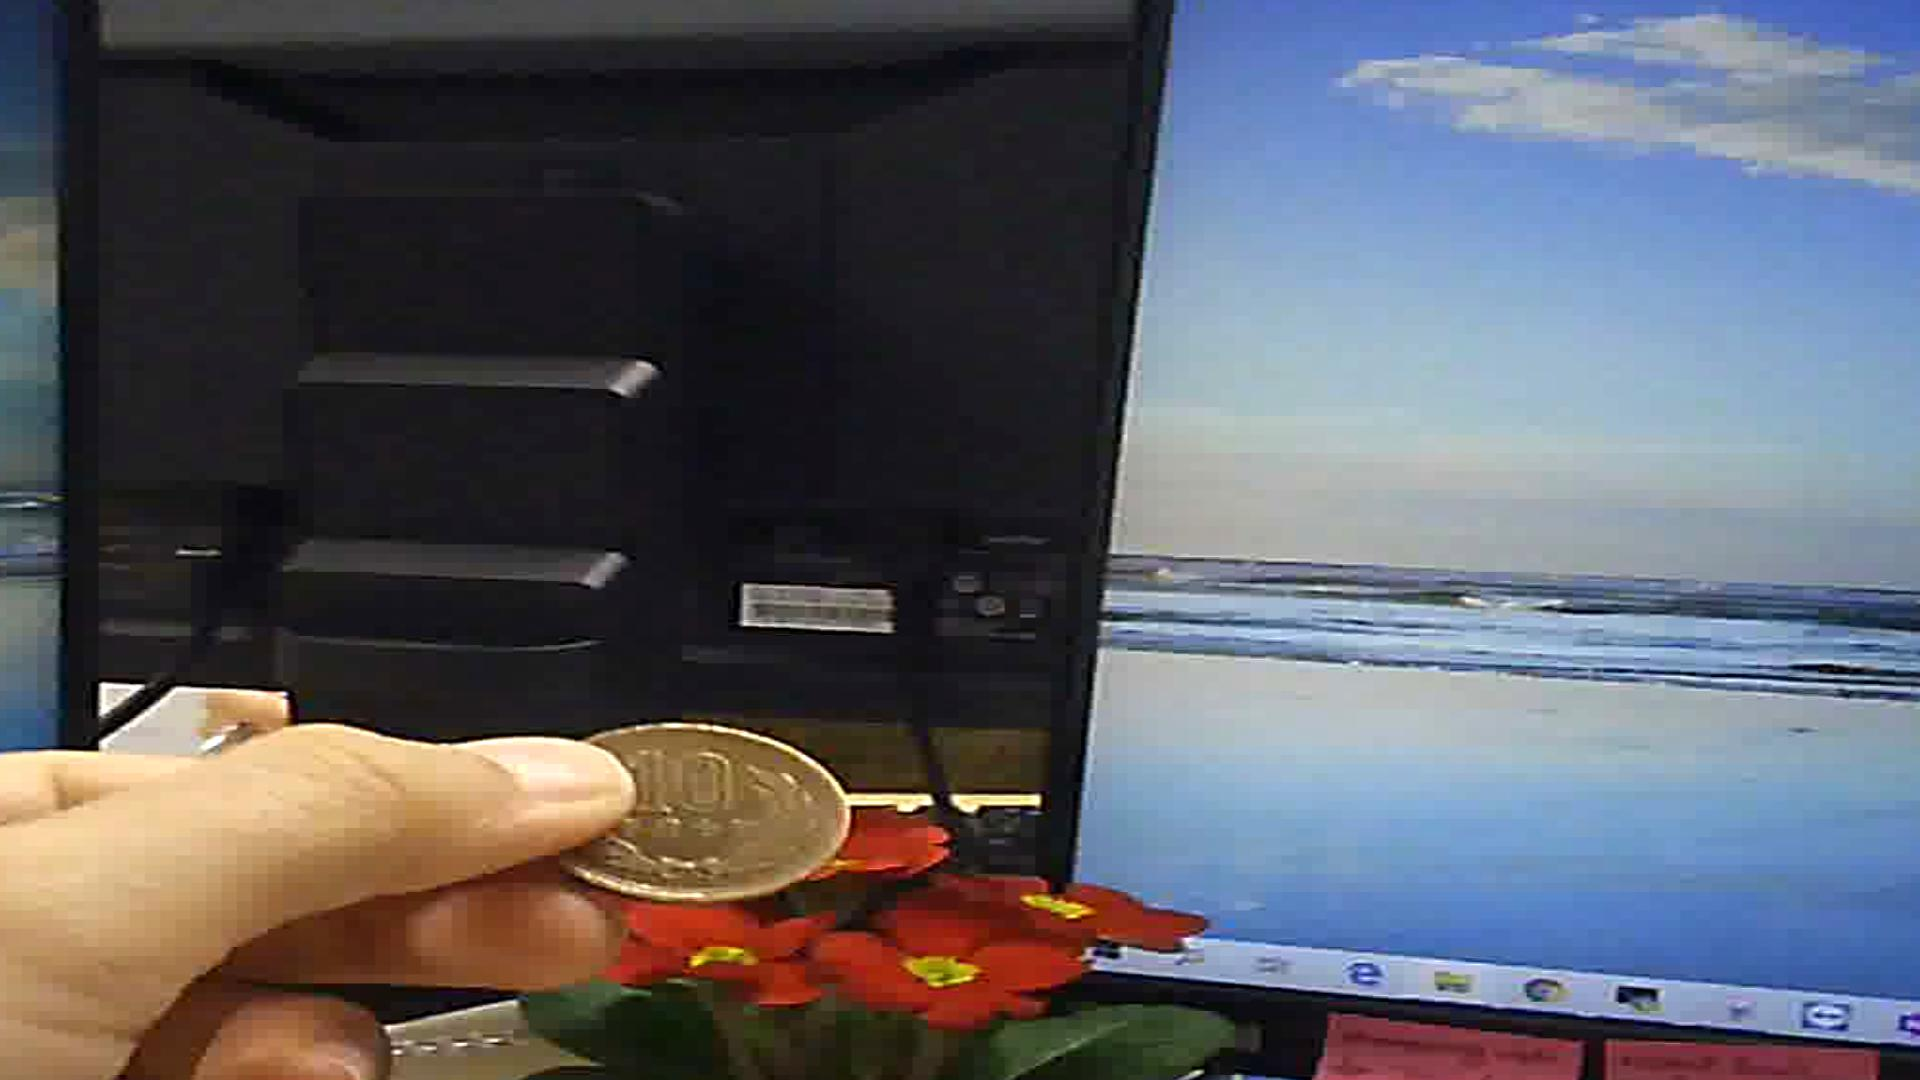10 Yen: (535, 705, 851, 914)
